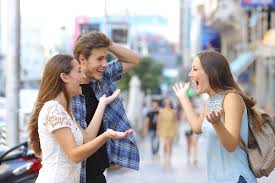person: (184, 50, 244, 121), (73, 32, 122, 105), (39, 57, 91, 122)
